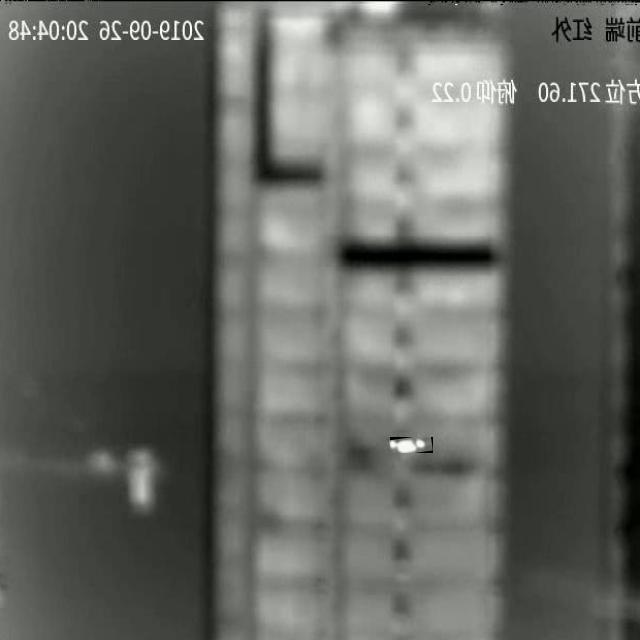drone: (390, 438, 432, 453)
